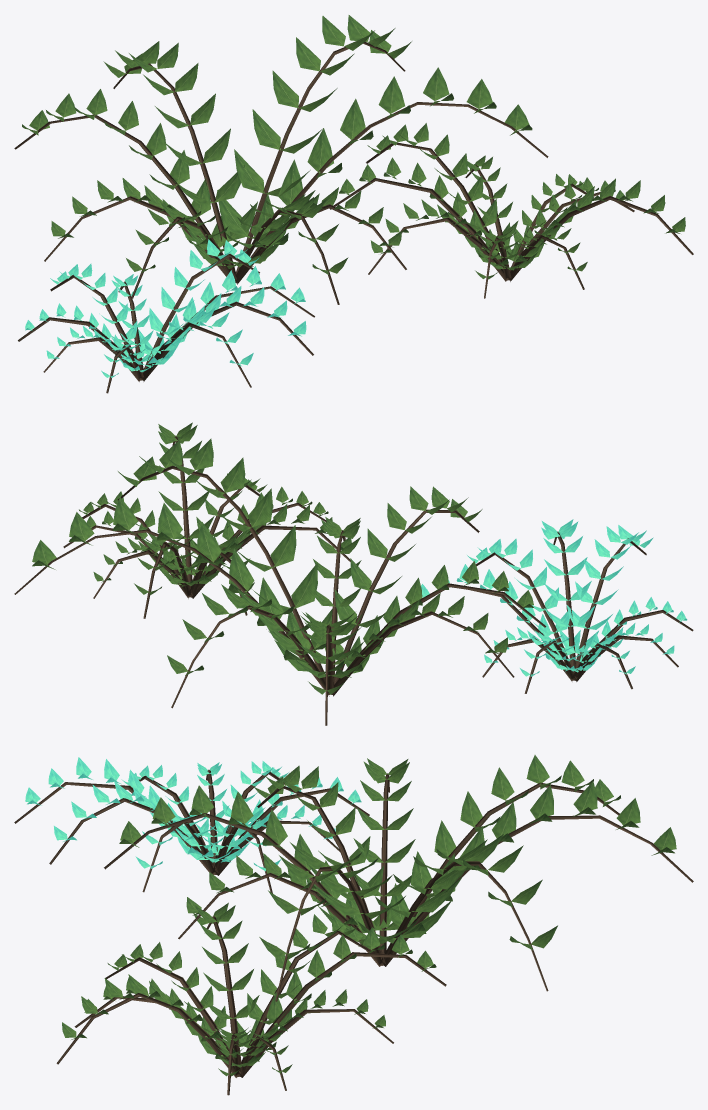
Rendered from fern_cluster.glb.
The picture shows the model from 3 angles, top to bottom: view 1: azimuth 30°, elevation 25°; view 2: azimuth 150°, elevation 25°; view 3: azimuth 270°, elevation 25°; orthographic projection. The views are drawn at different scales.
Parts seen in each view (by area): view 1: fern_cluster__leaf, fern_cluster__root, fern_cluster__leaf_glow; view 2: fern_cluster__leaf, fern_cluster__root, fern_cluster__leaf_glow; view 3: fern_cluster__leaf, fern_cluster__root, fern_cluster__leaf_glow.
Boxes of the visible parts, x1=… form: fern_cluster__leaf: x1=22, y1=15, x2=685, y2=279; fern_cluster__root: x1=14, y1=41, x2=693, y2=393; fern_cluster__leaf_glow: x1=25, y1=239, x2=306, y2=378; fern_cluster__leaf: x1=32, y1=422, x2=533, y2=694; fern_cluster__root: x1=14, y1=435, x2=693, y2=725; fern_cluster__leaf_glow: x1=421, y1=519, x2=687, y2=676; fern_cluster__leaf: x1=62, y1=755, x2=676, y2=1076; fern_cluster__root: x1=14, y1=769, x2=693, y2=1095; fern_cluster__leaf_glow: x1=25, y1=757, x2=361, y2=871.
Size of the model in its own units: 1.59 by 0.4687 by 1.42.
3 materials, 3 textured.
